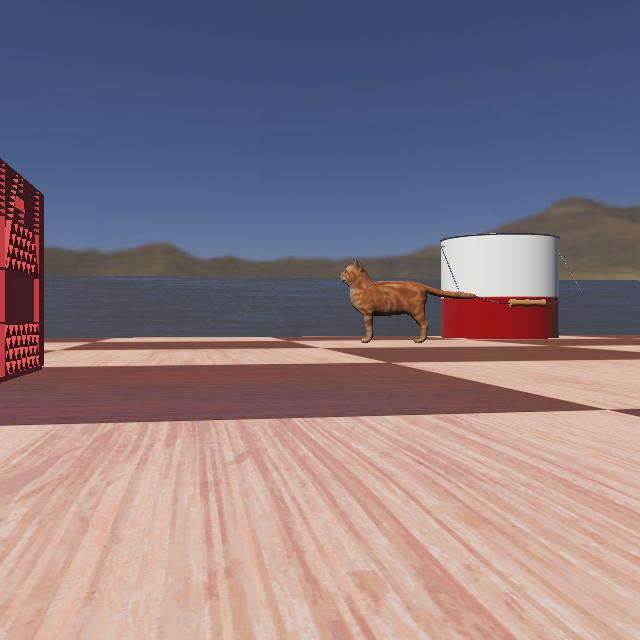cat: (338, 256, 478, 342), (338, 256, 478, 342), (338, 256, 478, 342)
paint-bucket: (430, 231, 592, 339), (430, 231, 592, 339)
plastic-crate: (1, 118, 74, 400)
